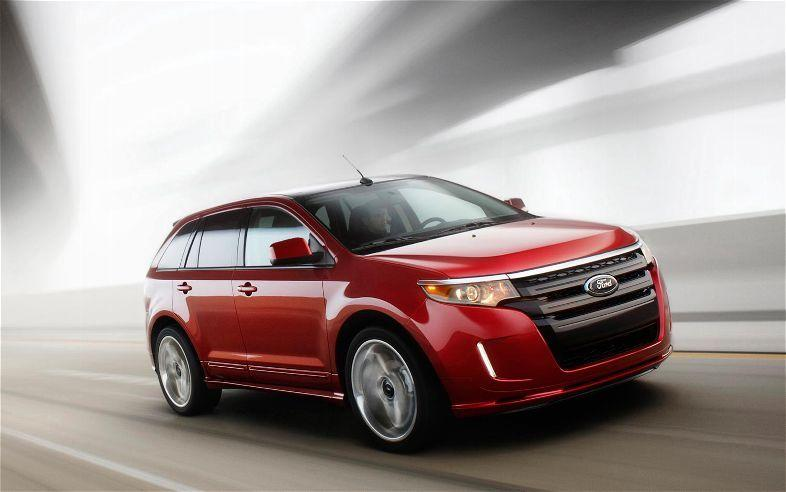car: (139, 174, 674, 447)
